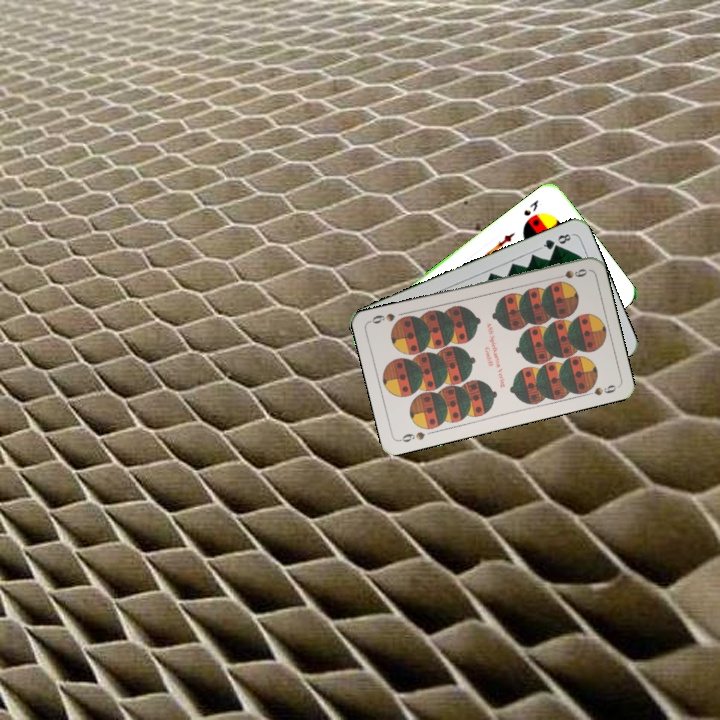G8: (536, 229, 575, 252)
S9: (395, 428, 428, 445), (558, 264, 590, 281)
SK: (520, 196, 541, 219)
